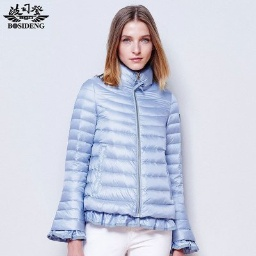face: (104, 5, 168, 91)
